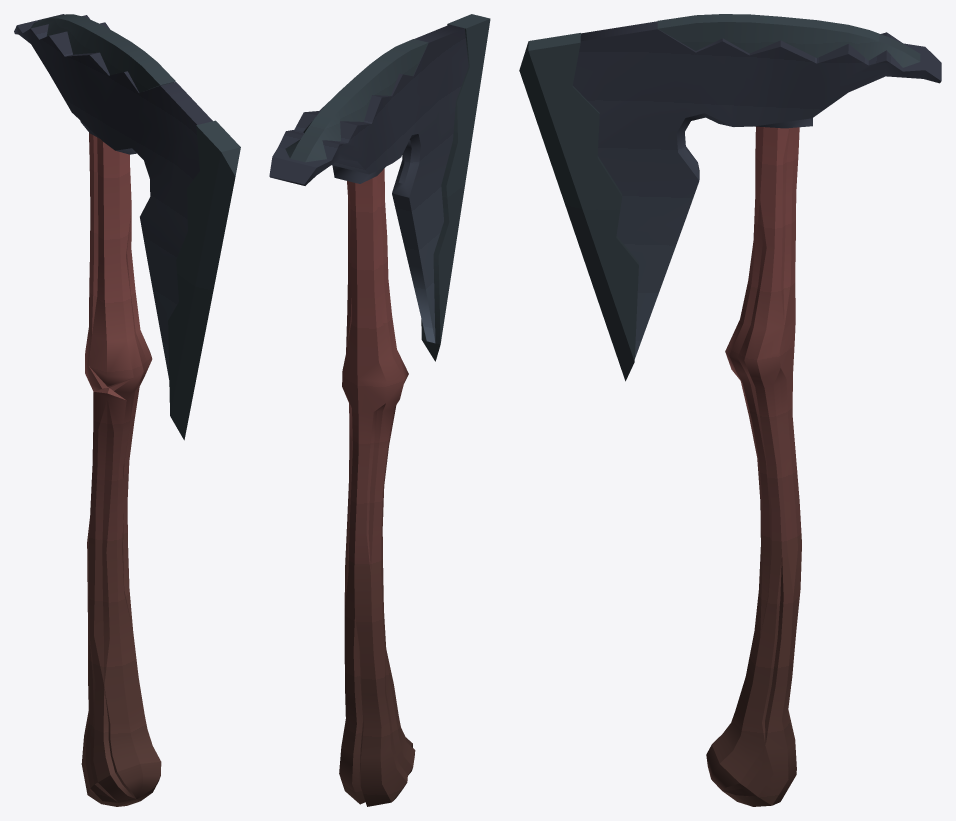
The model's file is Axe.fbx.
The picture shows the model from 3 angles, left to right: view 1: azimuth 30°, elevation 25°; view 2: azimuth 150°, elevation 25°; view 3: azimuth 270°, elevation 25°; orthographic projection. The views are drawn at different scales.
Visible parts, largest first — view 1: Axe; view 2: Axe; view 3: Axe.
Part boxes in pixels (left/top/right/bottom): Axe: left=14, top=14, right=240, bottom=806; Axe: left=269, top=14, right=490, bottom=806; Axe: left=519, top=14, right=941, bottom=806.
Bounding box in the file's own units: 0.0706 × 0.8291 × 0.4046.
